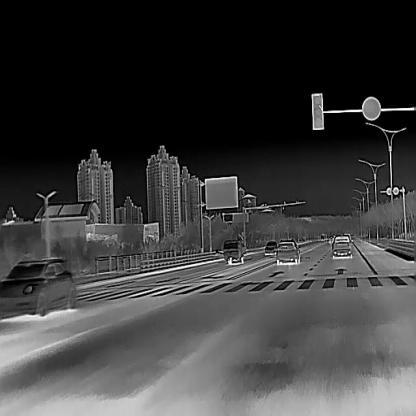car: (0, 256, 77, 318), (222, 233, 246, 263), (276, 238, 300, 264), (332, 233, 352, 258), (263, 240, 278, 255)
